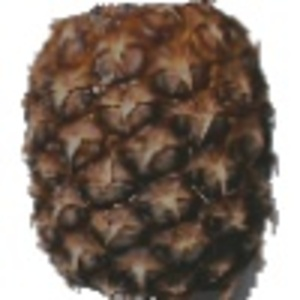abacaxi: (10, 3, 284, 297)
